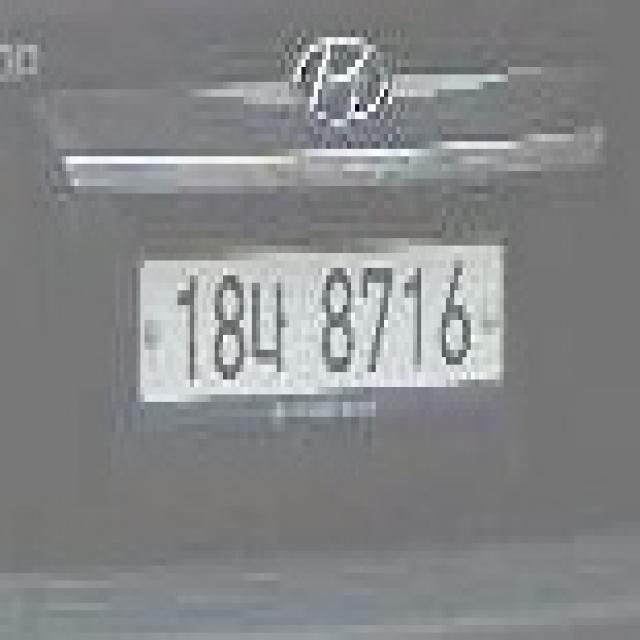1: (396, 253, 434, 380), (174, 268, 202, 402)
6: (433, 253, 475, 380)
7: (355, 260, 396, 380)
8: (206, 268, 248, 394), (318, 253, 355, 380)
license_plate: (120, 216, 516, 454)
na: (248, 260, 293, 387)
